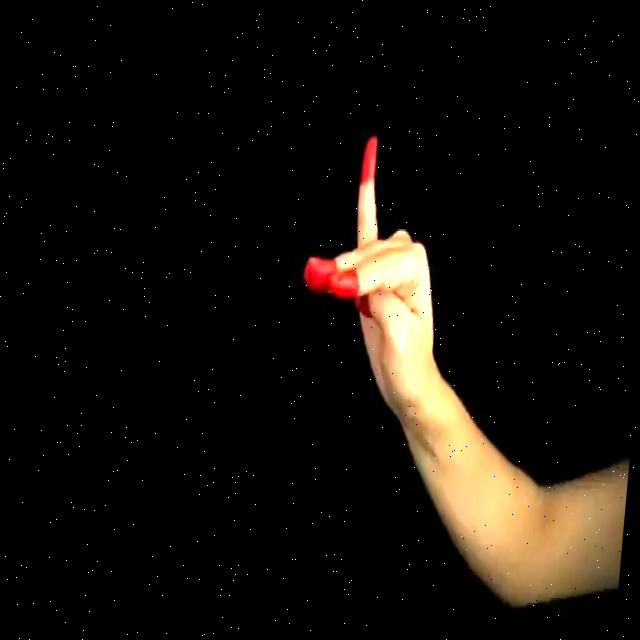Chatura: (281, 100, 478, 438)
